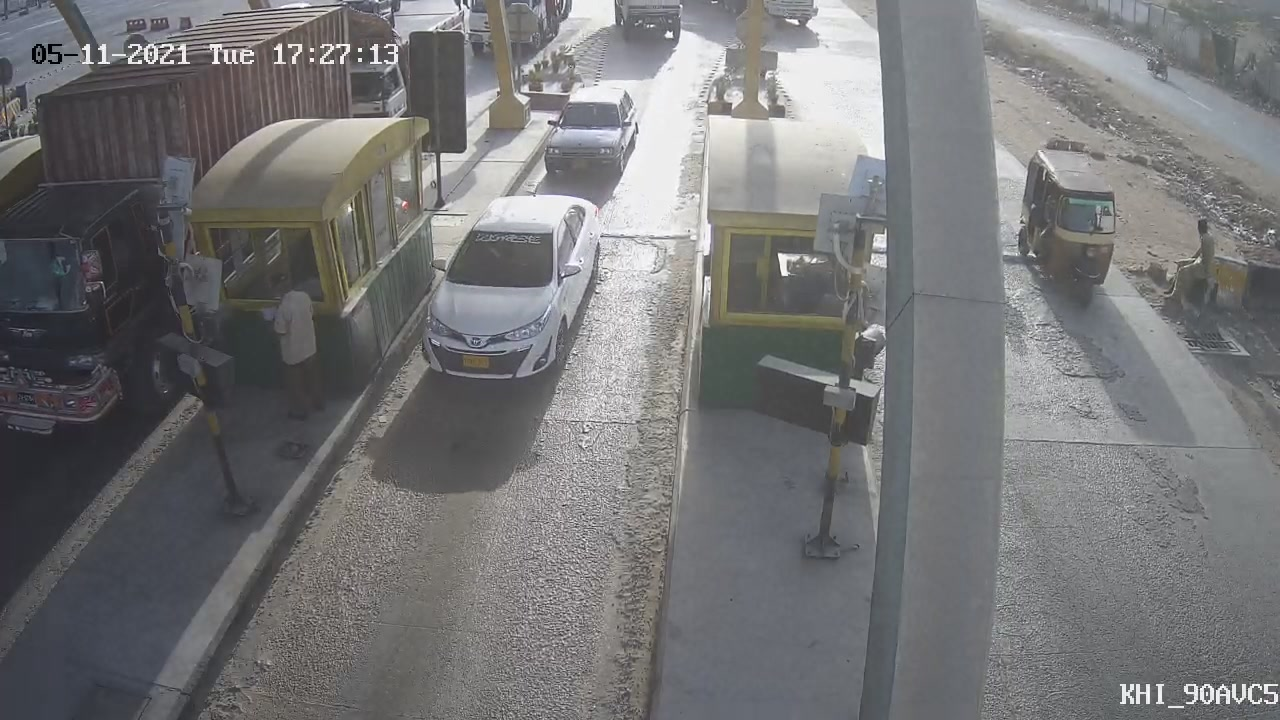F1: (399, 178, 618, 408), (527, 69, 653, 187)
